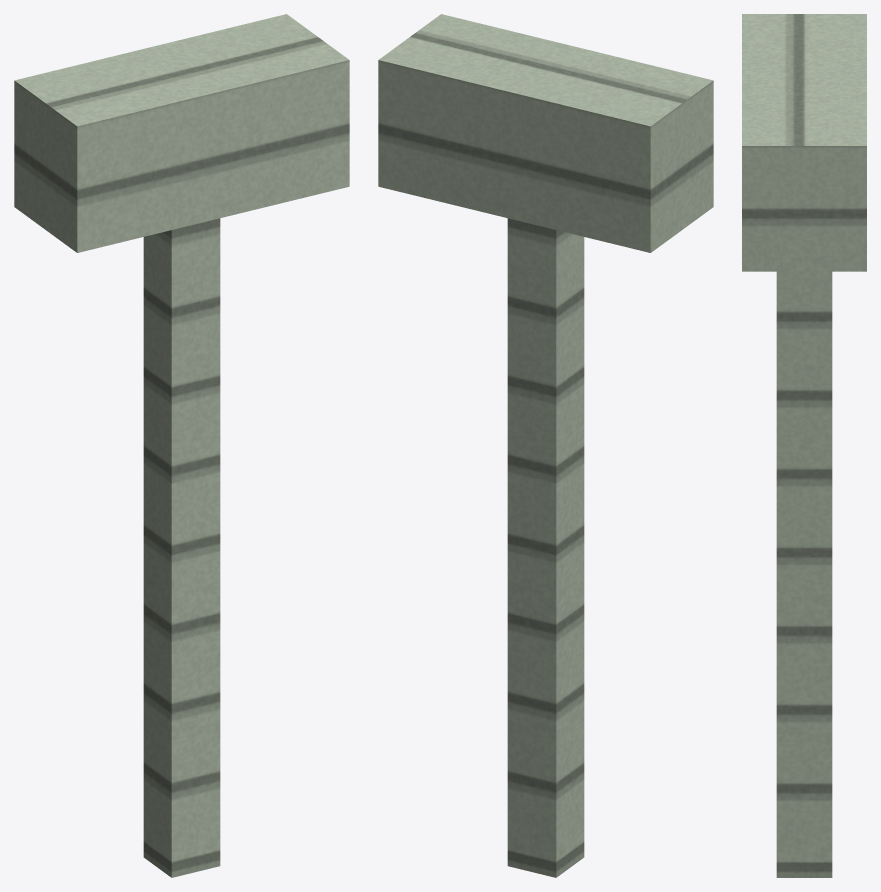
Rendered from mailbox_post_curbside.glb.
3 views of the same model, side by side, from view 1: azimuth 30°, elevation 25°; view 2: azimuth 150°, elevation 25°; view 3: azimuth 270°, elevation 25° (orthographic).
Parts seen in each view (by area): view 1: mailbox_post_curbside-col; view 2: mailbox_post_curbside-col; view 3: mailbox_post_curbside-col.
Part boxes in pixels (x1=…): mailbox_post_curbside-col: x1=14, y1=14, x2=349, y2=877; mailbox_post_curbside-col: x1=378, y1=14, x2=713, y2=877; mailbox_post_curbside-col: x1=742, y1=14, x2=866, y2=877.
Size of the model in its own units: 0.45 by 1.25 by 0.18.
Materials: 1 (1 with a texture image).
